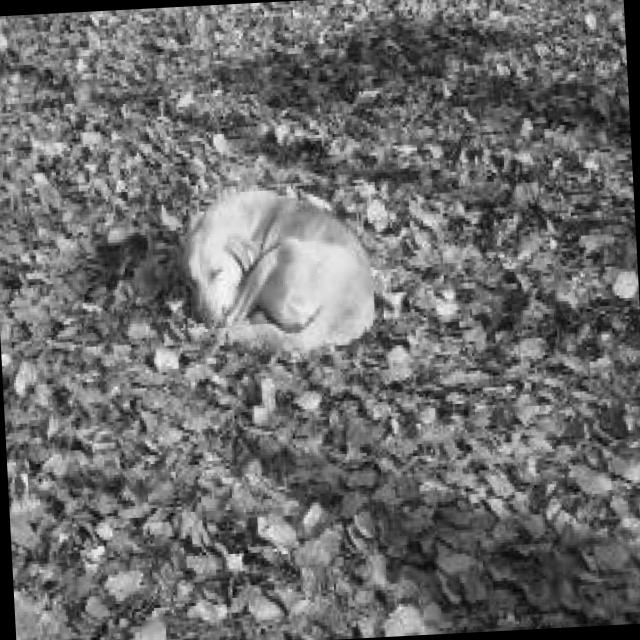laying down: (162, 174, 386, 373)
